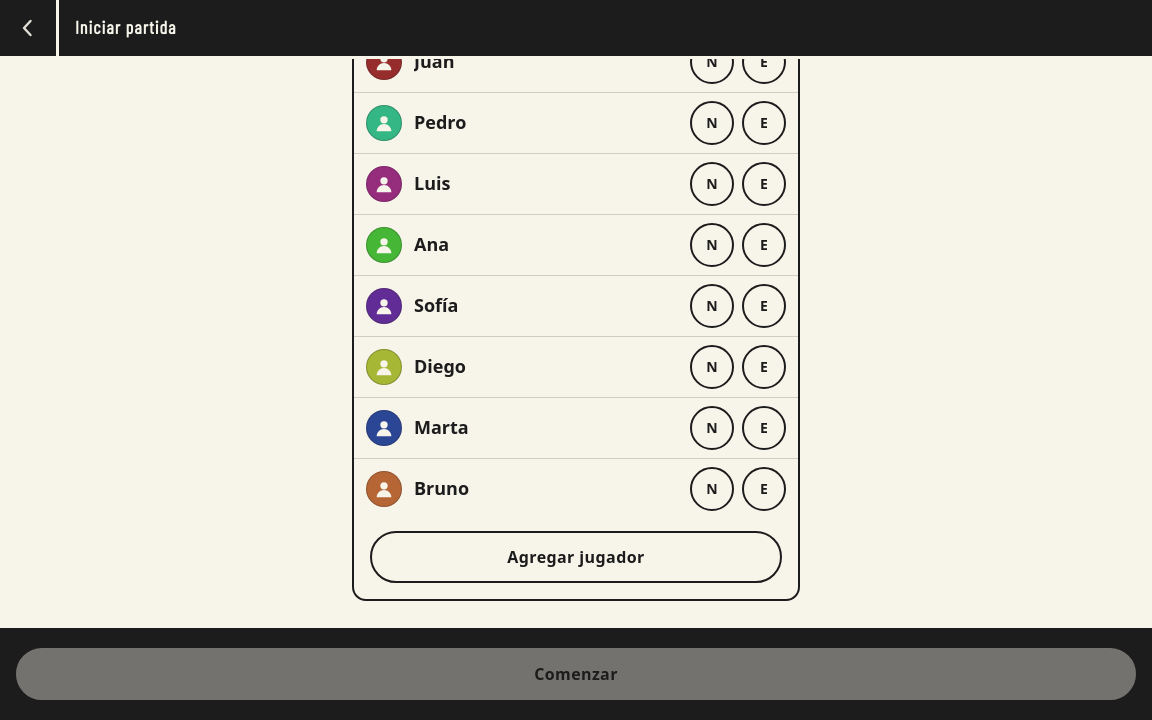
StartGroupGameScreen › jugadores invitados › agrega a alguien que no es del grupo, con la etiqueta Invitado
The image size is (1152, 720).
(page scrolled)
Click the button "Agregar jugador": (576, 557) 370,531 -> 782,583
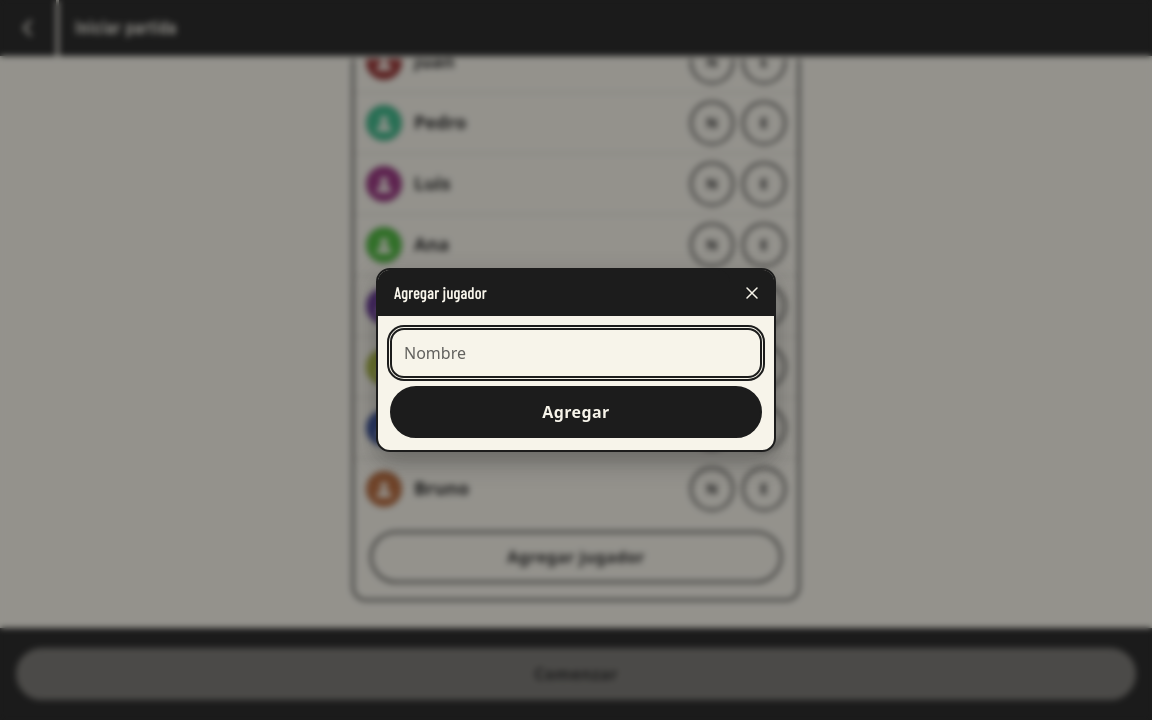
In the field named "Nombre del jugador": (576, 353) 390,328 -> 762,378, type "Beto"
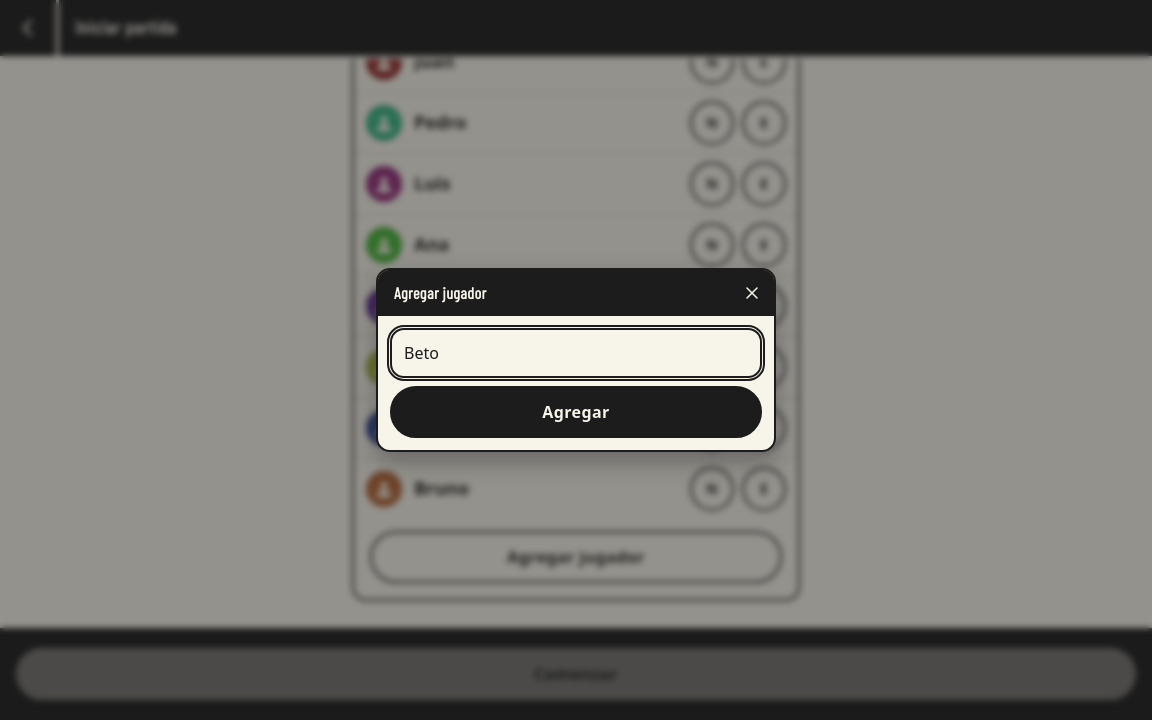
Click the button "Agregar": (576, 412) 390,386 -> 762,438
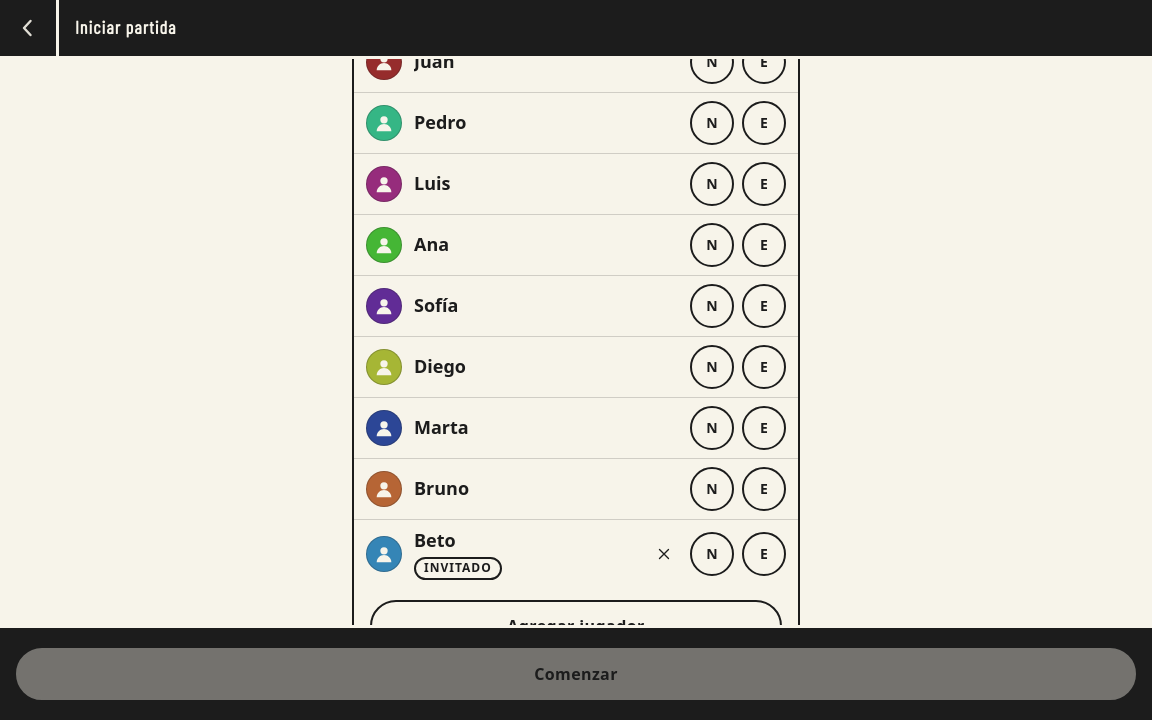
Check: the text "Invitado" is shown, box 414,557 -> 502,580
Check: the dialog is gone
